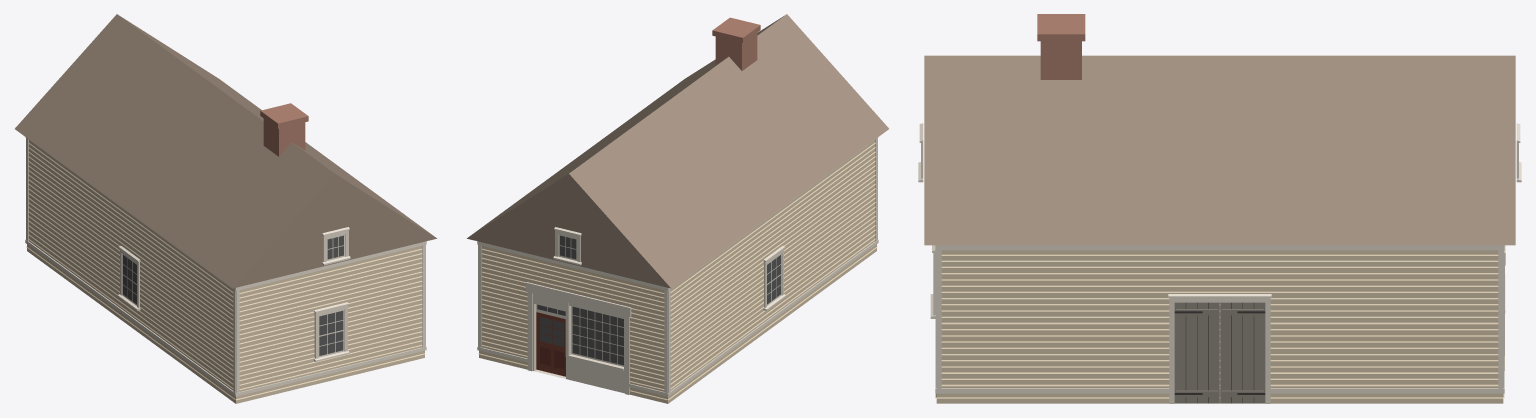
Rendered from recon_1835_core_c2_025__inferred_1835.glb.
3 views of the same model, side by side, from view 1: azimuth 30°, elevation 25°; view 2: azimuth 150°, elevation 25°; view 3: azimuth 270°, elevation 25° (orthographic). The views are drawn at different scales.
Parts seen in each view (by area): view 1: recon_1835_core_c2_025__inferred_1835; view 2: recon_1835_core_c2_025__inferred_1835; view 3: recon_1835_core_c2_025__inferred_1835.
Part boxes in pixels (left/top/right/bottom): recon_1835_core_c2_025__inferred_1835: left=15, top=14, right=436, bottom=403; recon_1835_core_c2_025__inferred_1835: left=467, top=14, right=888, bottom=403; recon_1835_core_c2_025__inferred_1835: left=918, top=14, right=1521, bottom=403.
Bounding box in the file's own units: 6.55 × 7.14 × 12.32.
